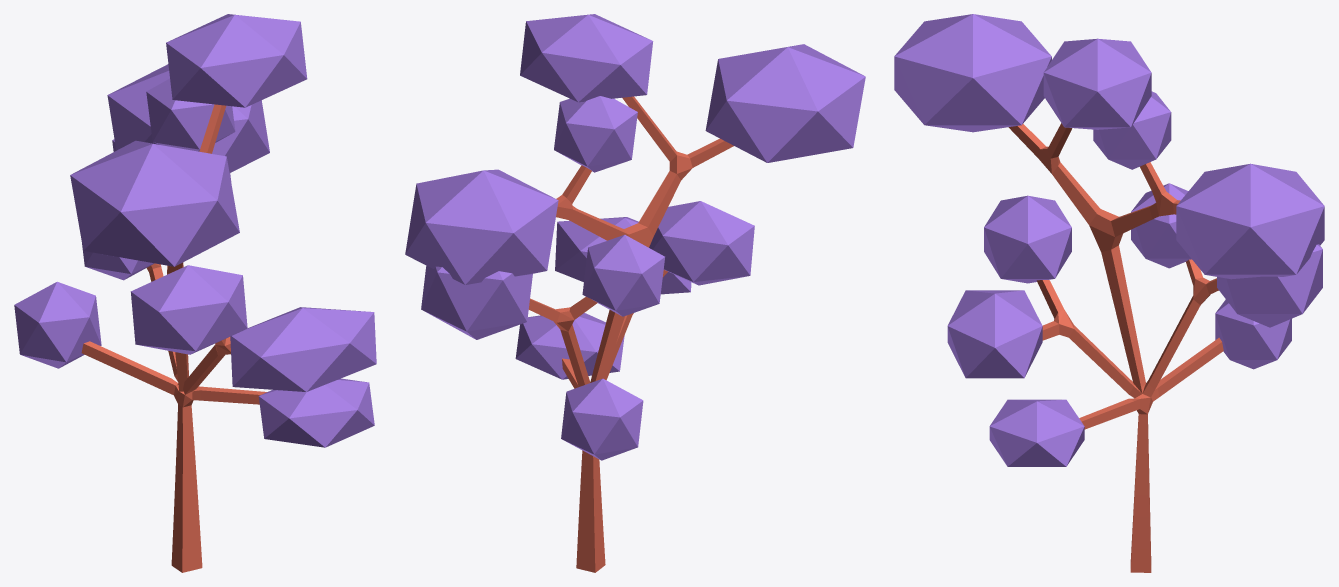
Rendered from Arbolarreglado2.fbx.
3 views of the same model, side by side, from view 1: azimuth 30°, elevation 25°; view 2: azimuth 150°, elevation 25°; view 3: azimuth 270°, elevation 25° (orthographic). The views are drawn at different scales.
Visible parts, largest first — view 1: Icosphere; view 2: Icosphere; view 3: Icosphere.
Boxes of the visible parts, box(x1,y1,x2,y2) form: Icosphere: box(14, 14, 376, 572); Icosphere: box(405, 14, 865, 572); Icosphere: box(894, 14, 1324, 572).
Size of the model in its own units: 607 by 1022 by 737.
